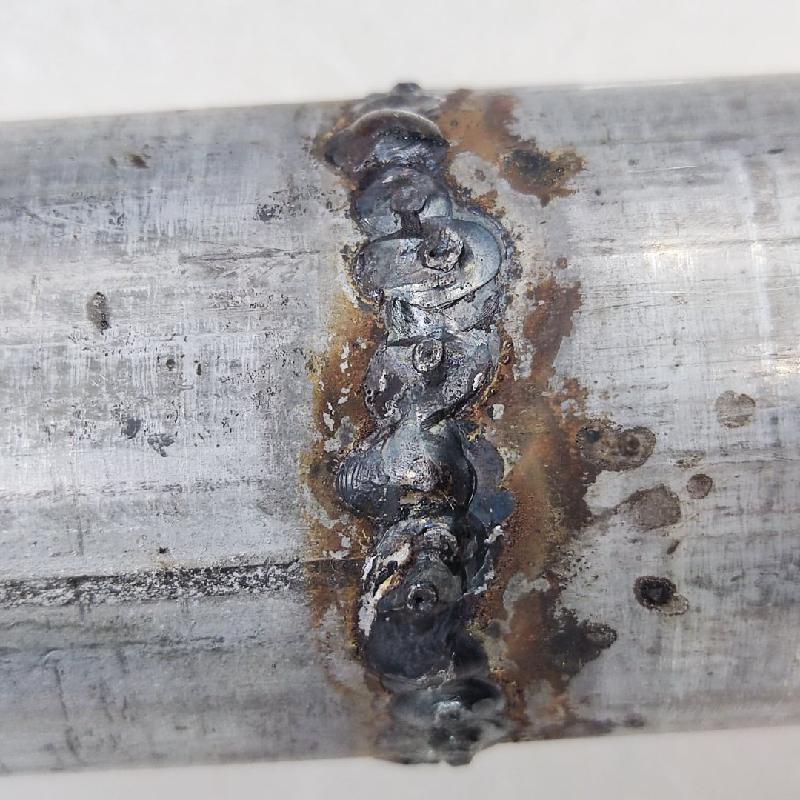Surface_pores: (405, 322, 461, 386), (409, 228, 463, 274), (403, 579, 438, 618)
Weld: (317, 110, 454, 174)
wrong_size: (341, 176, 513, 763)
